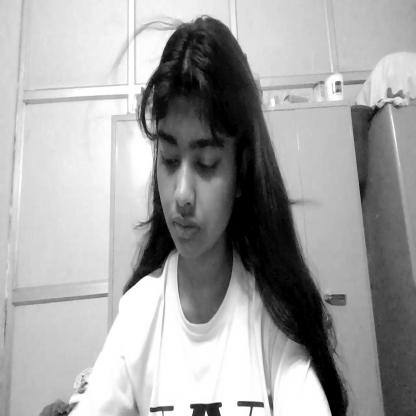Distracted: (142, 19, 257, 260)
